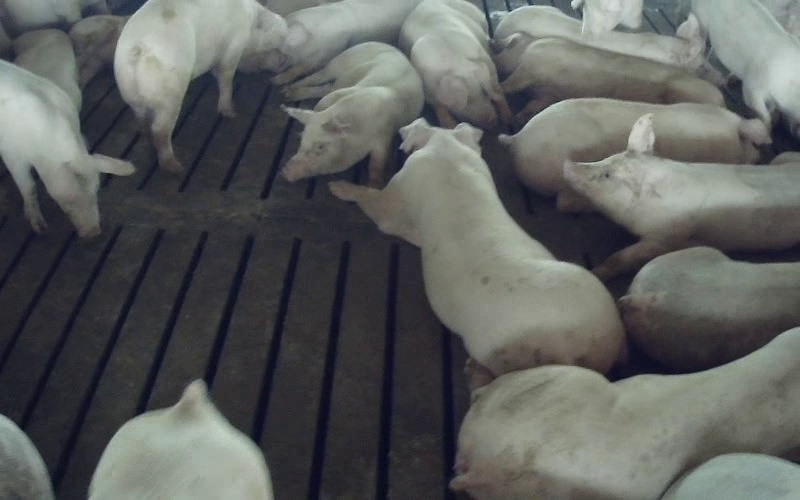pig: (451, 328, 799, 499), (499, 98, 769, 211), (88, 380, 272, 499), (618, 248, 799, 368), (495, 33, 723, 123), (283, 43, 423, 186), (494, 5, 723, 83), (693, 0, 799, 135), (399, 0, 510, 128)
